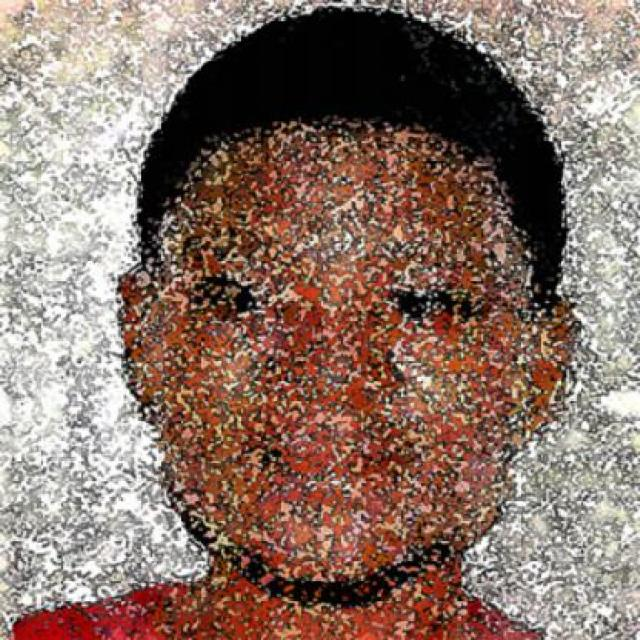obstacle: (0, 7, 583, 638)
